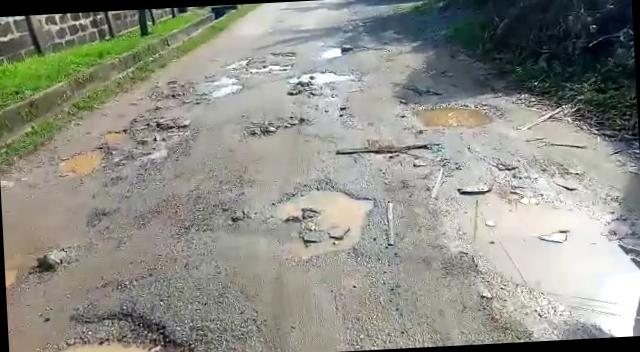pothole: (450, 186, 640, 345), (15, 301, 205, 352), (272, 182, 384, 256), (412, 97, 502, 133), (342, 142, 455, 170), (102, 114, 192, 148), (282, 68, 361, 94), (53, 146, 107, 181), (222, 56, 290, 76), (246, 114, 310, 134), (198, 78, 245, 98)
